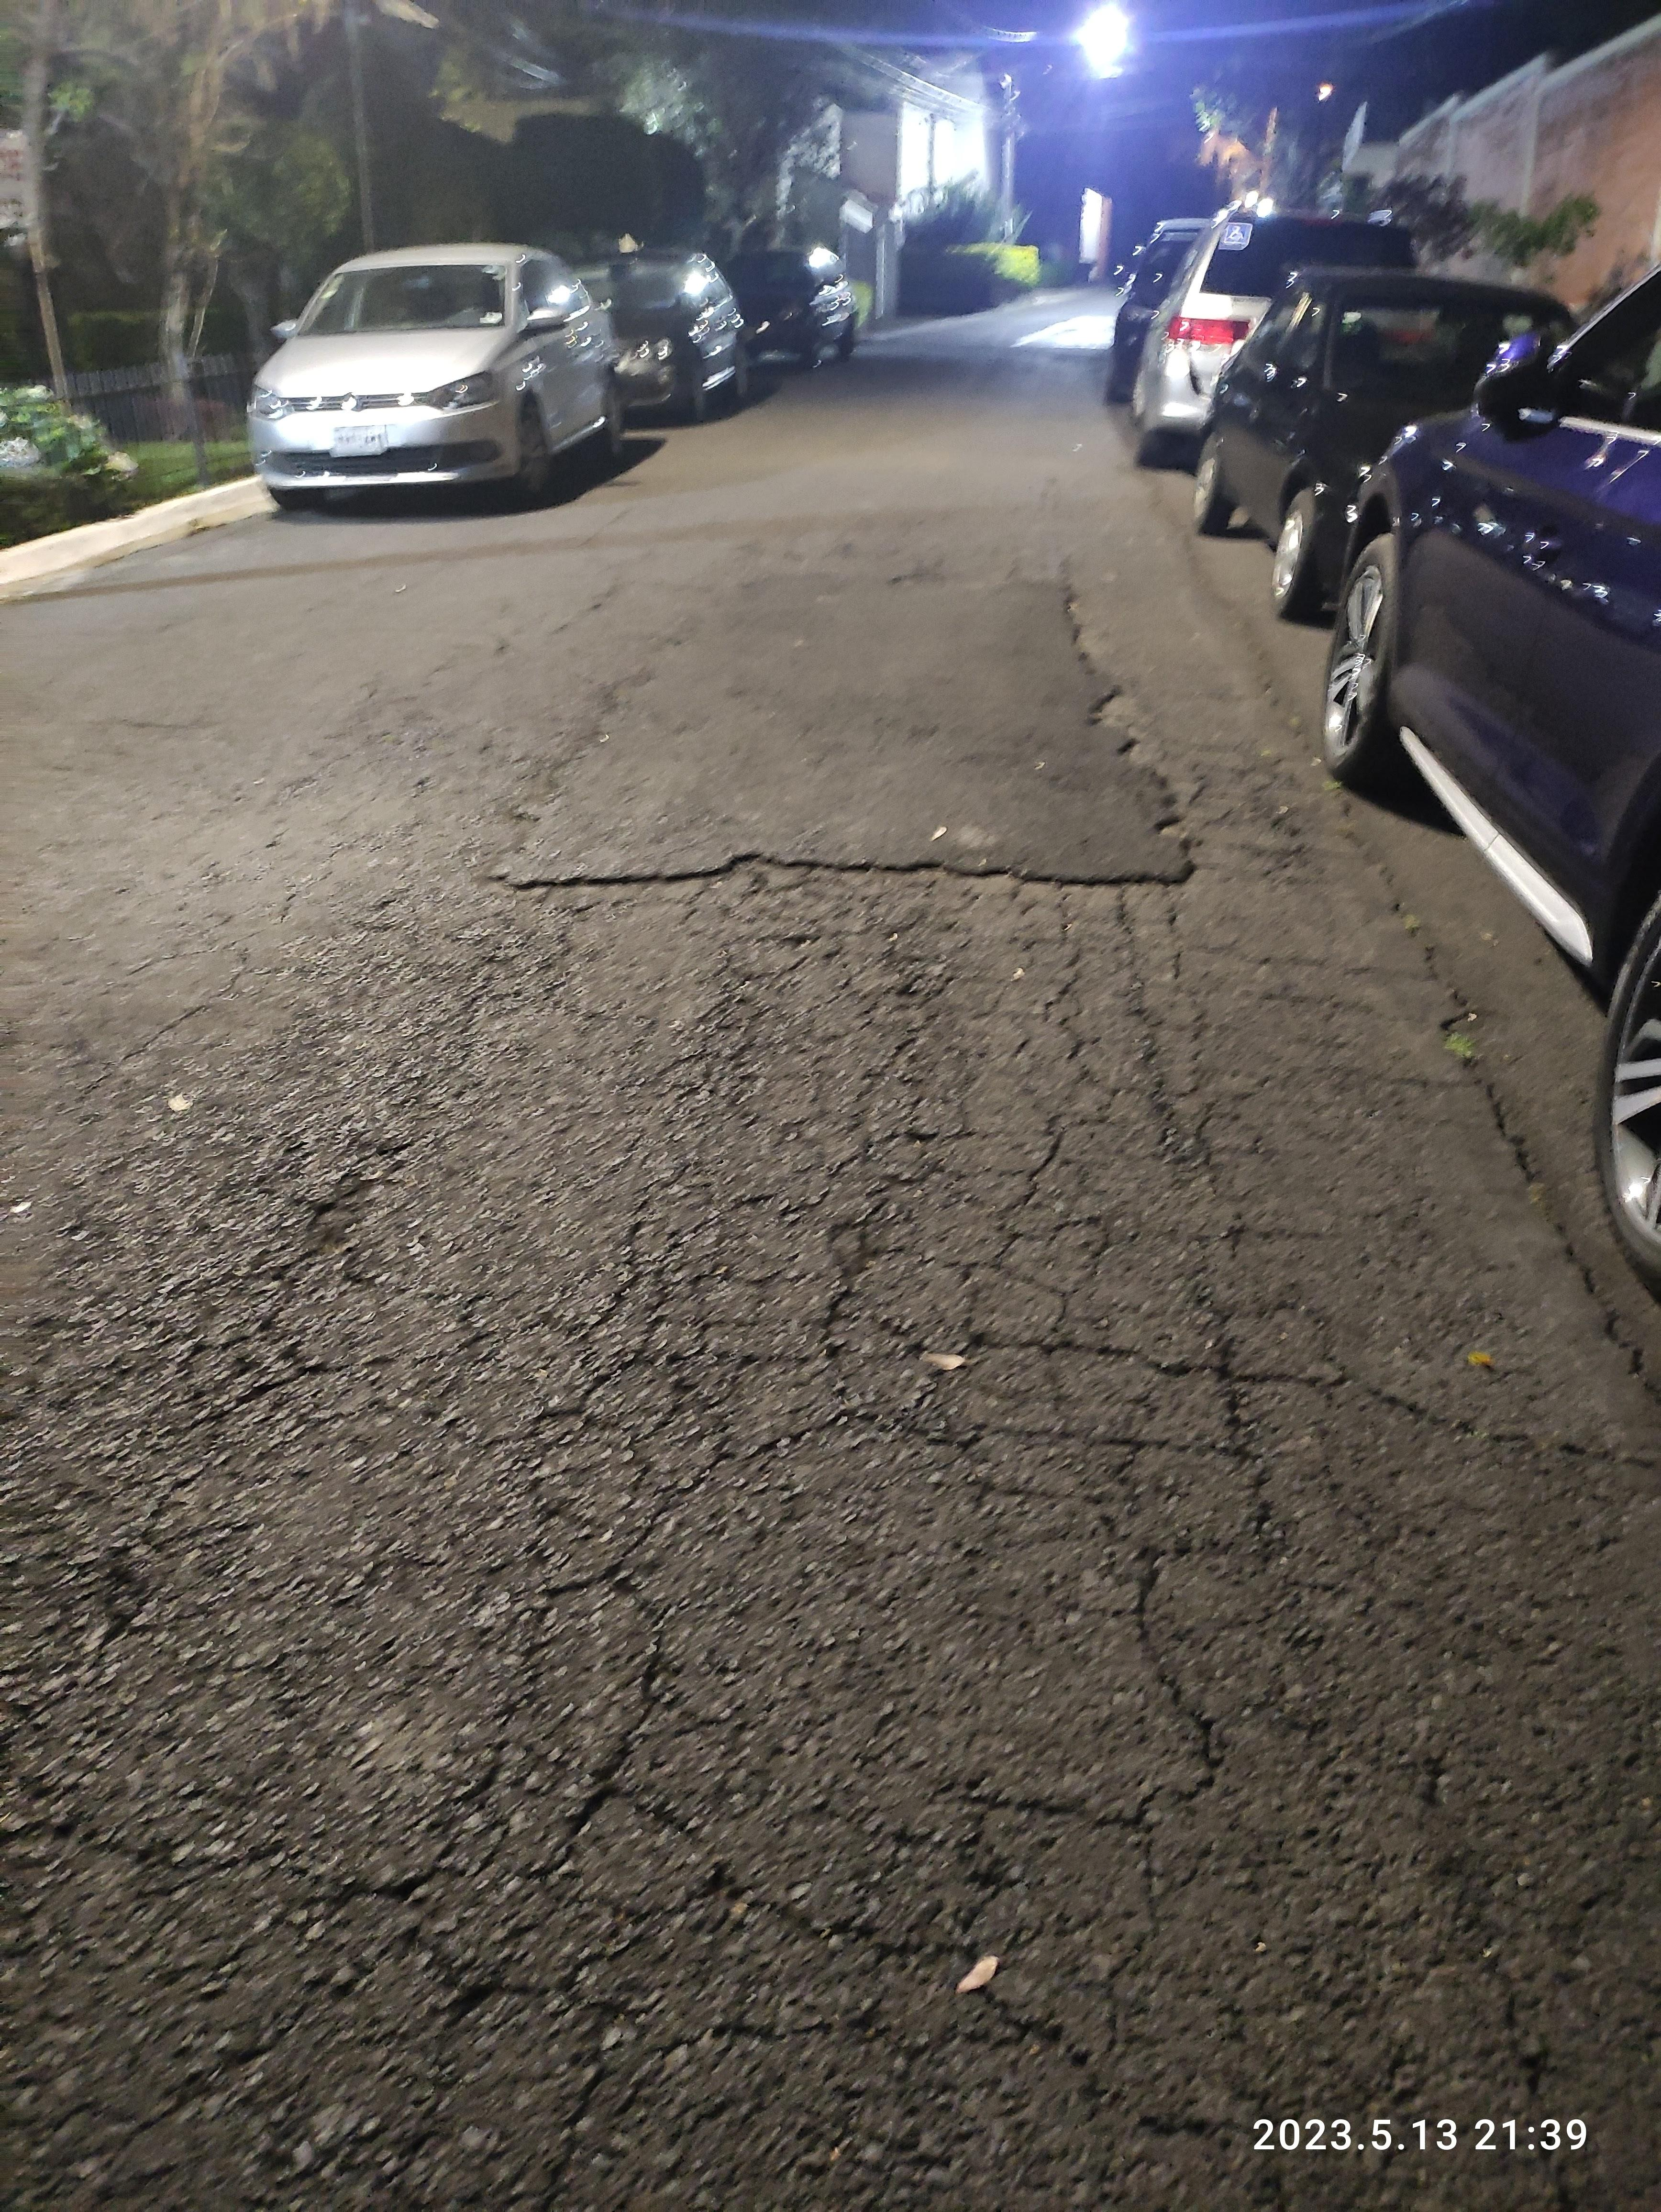alligator-crack: (499, 1301, 1237, 2043), (714, 862, 1270, 1422)
crack: (24, 933, 384, 1748), (1321, 818, 1654, 1350), (96, 1847, 551, 2212), (1302, 1240, 1661, 1556), (1436, 1713, 1589, 2175), (502, 949, 708, 1193)
